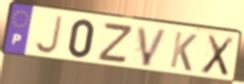0: (66, 18, 96, 60)
J: (33, 15, 64, 55)
K: (168, 29, 199, 73)
V: (136, 25, 170, 69)
X: (199, 34, 236, 79)
Z: (95, 23, 136, 66)
